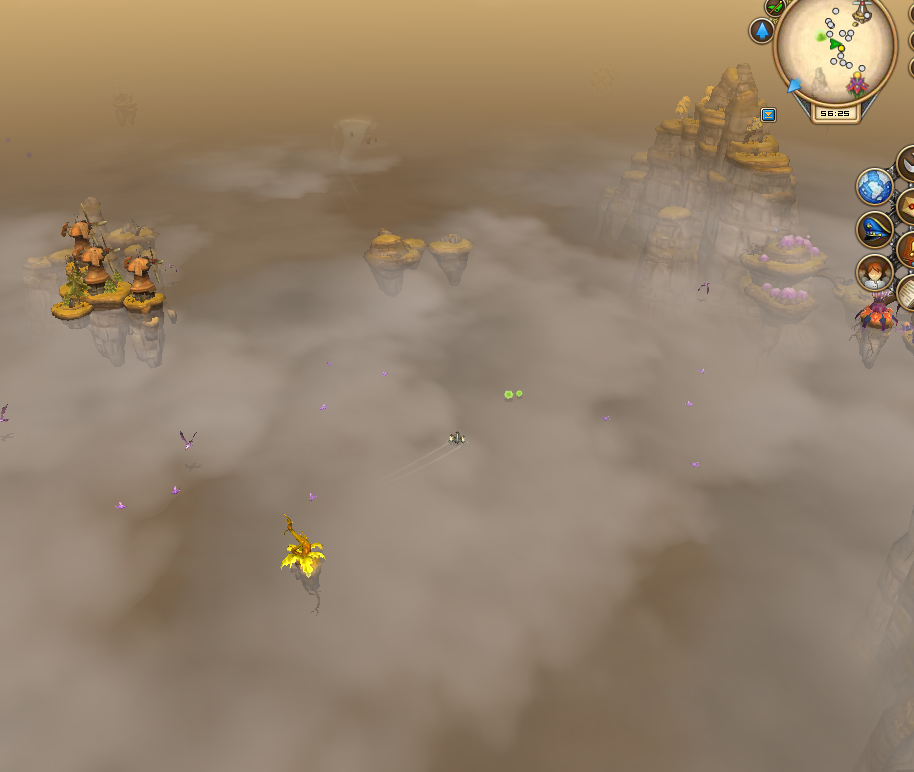dandelion-empty: (280, 516, 325, 594)
fluff: (502, 388, 514, 401), (515, 386, 524, 400)
